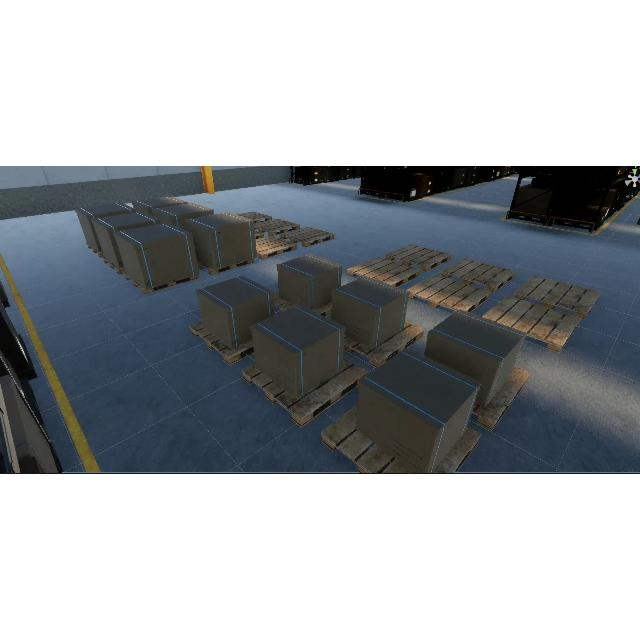wooden_pallet: (241, 355, 369, 428), (318, 405, 426, 474), (483, 296, 583, 351), (515, 276, 601, 319), (406, 276, 490, 317), (189, 320, 259, 366), (441, 259, 516, 294), (426, 428, 482, 474), (346, 259, 422, 289), (386, 242, 452, 270), (123, 273, 202, 296), (281, 226, 338, 248), (256, 234, 298, 261), (200, 258, 257, 276), (254, 218, 301, 237), (236, 210, 272, 223)
